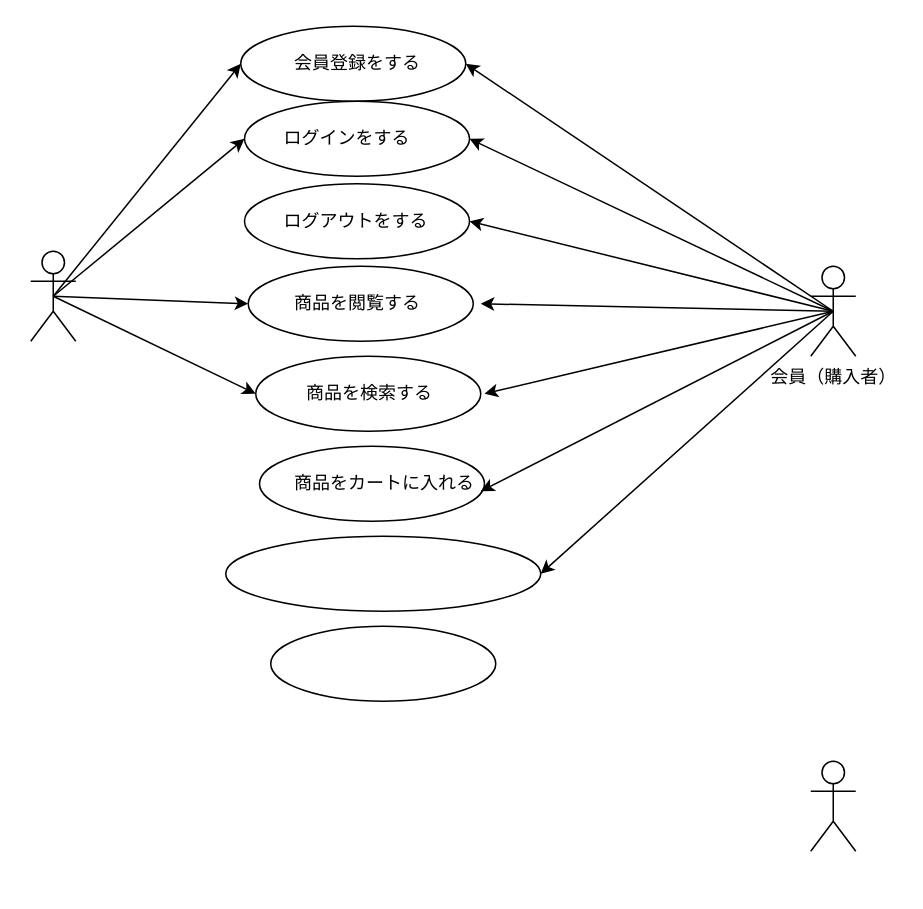
Some shapes in this 923 by 909 pixel diagram are drawn without their labels. Here are the shapes that lost their labels. From the top down, the centre of each, then its label:
the point at 52,295: ゲスト
the point at 382,573: カートに入れた商品を注文する
the point at 832,805: 会員（出品者）
